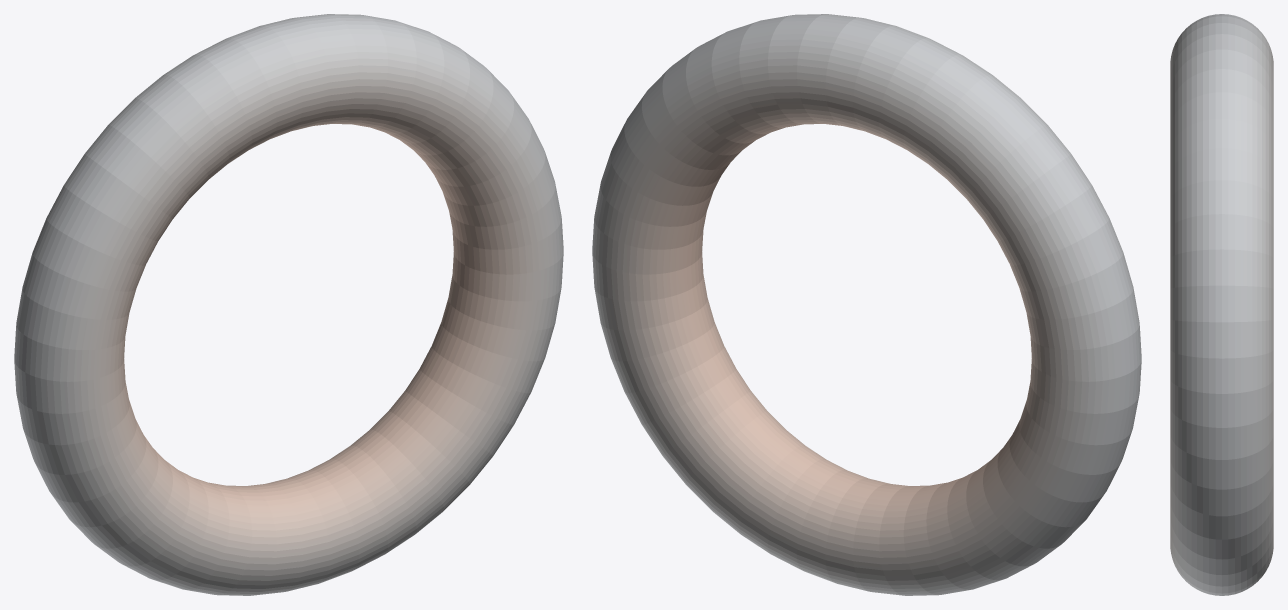
3 renders of one model, left to right at view 1: azimuth 30°, elevation 25°; view 2: azimuth 150°, elevation 25°; view 3: azimuth 270°, elevation 25°, orthographic. The views are drawn at different scales.
Visible parts, largest first — view 1: world; view 2: world; view 3: world.
Boxes of the visible parts, x1,y1,x2,y2 form: world: (14, 14, 563, 595); world: (592, 14, 1141, 595); world: (1170, 14, 1273, 595).
Bounding box in the file's own units: 29.2 × 29.14 × 5.19.
